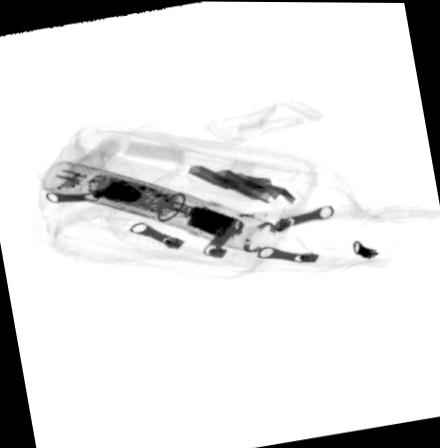Baton: (37, 159, 281, 254)
